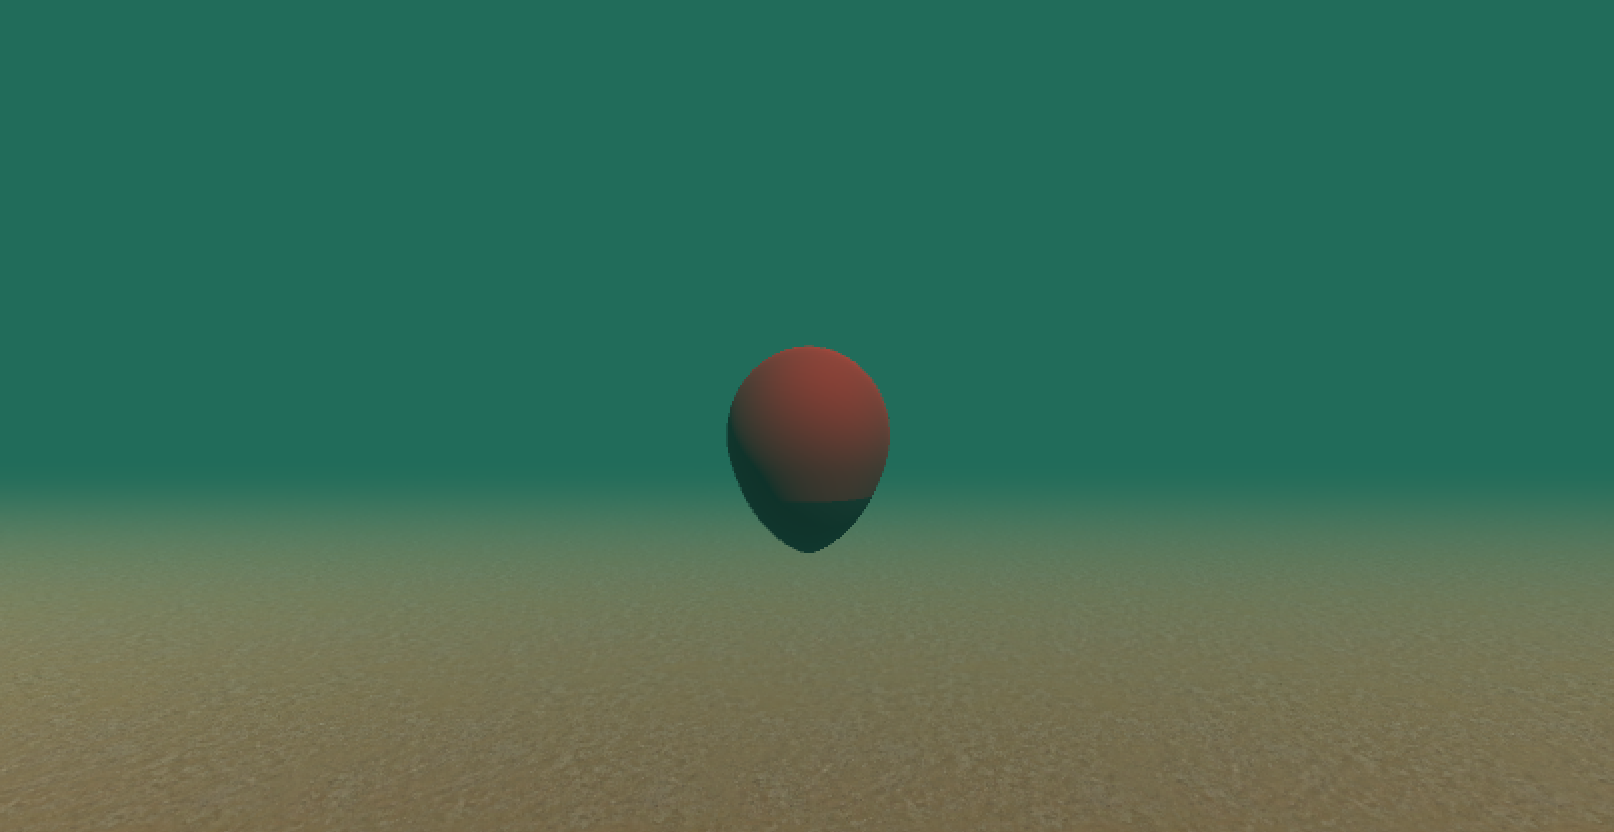red buoy: (721, 340, 896, 556)
